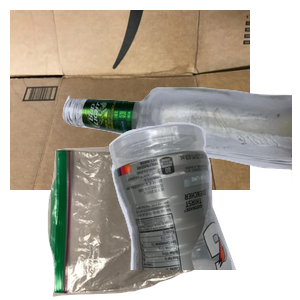cardboard: (10, 10, 250, 190)
glass: (60, 84, 300, 260)
plastic: (106, 120, 300, 300)
trash: (45, 144, 235, 300)
